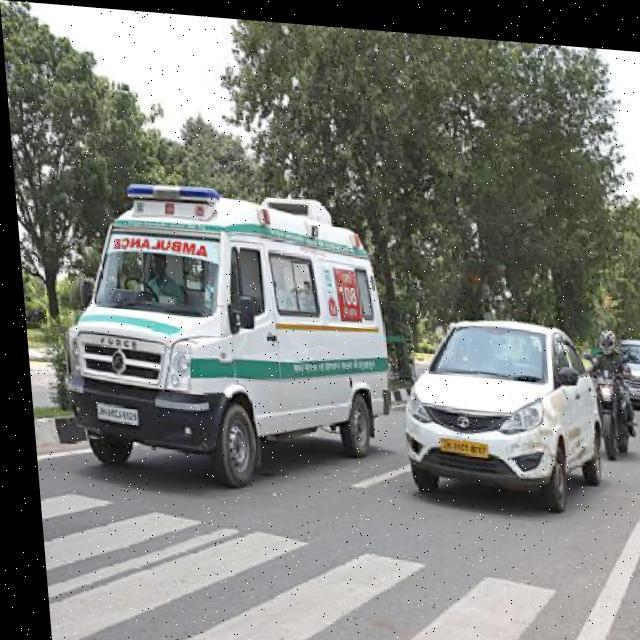Ambulance: (22, 338, 640, 640), (41, 170, 394, 497), (386, 302, 604, 509), (130, 248, 186, 308), (609, 324, 640, 403)
